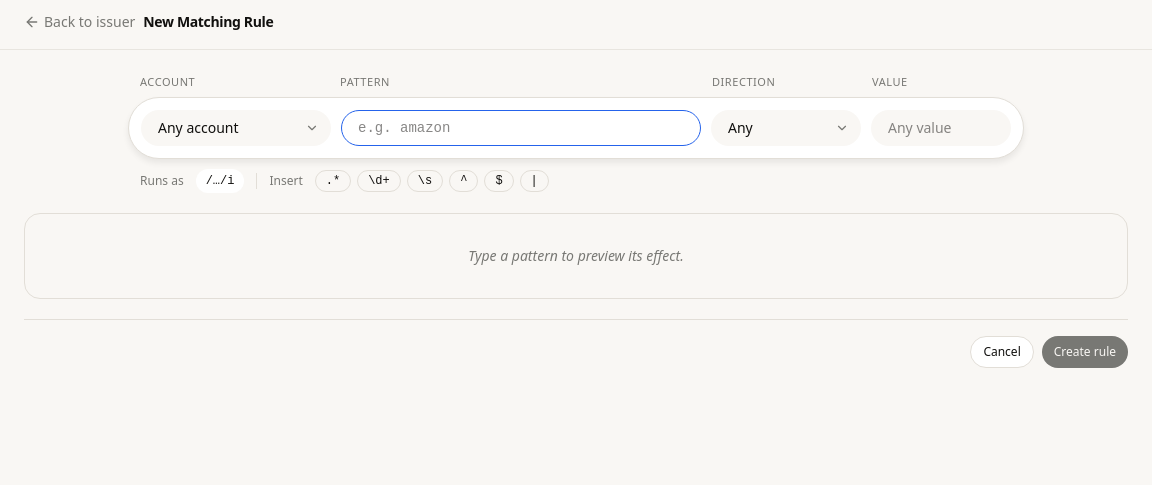
Scenario: RuleFormPage — create › states the preview's order on the Date column without a control that does nothing
In the field named "Matching Rule pattern": (521, 128) [341,110,701,146], type "amazon"
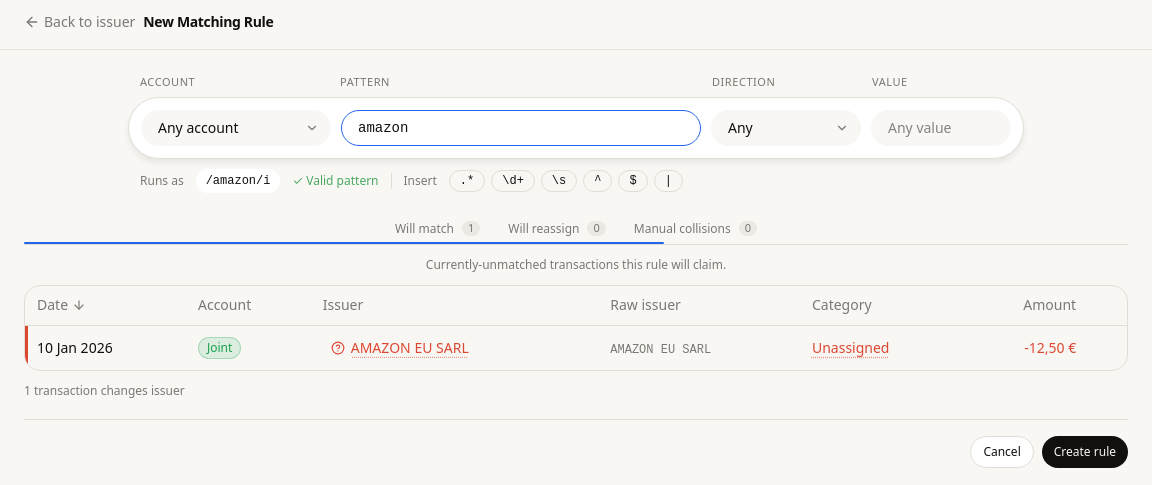
expect the text "10 Jan 2026" is shown: met, box [37,338,113,357]
